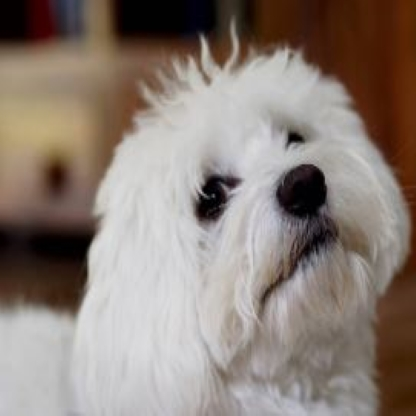maltese: (81, 29, 399, 402)
